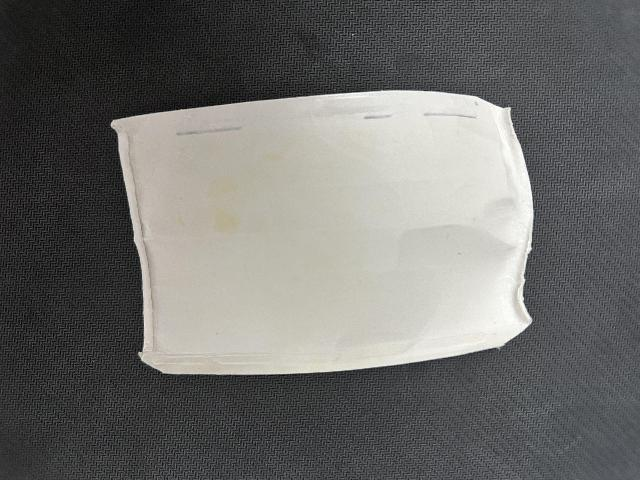Kagit: (92, 102, 543, 370)
